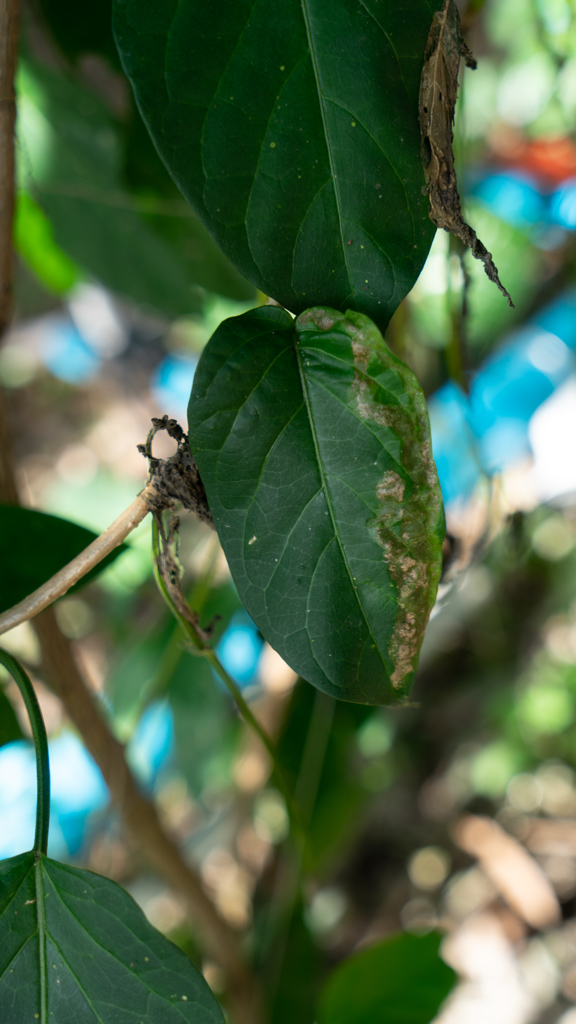Canker: (294, 311, 462, 704)
